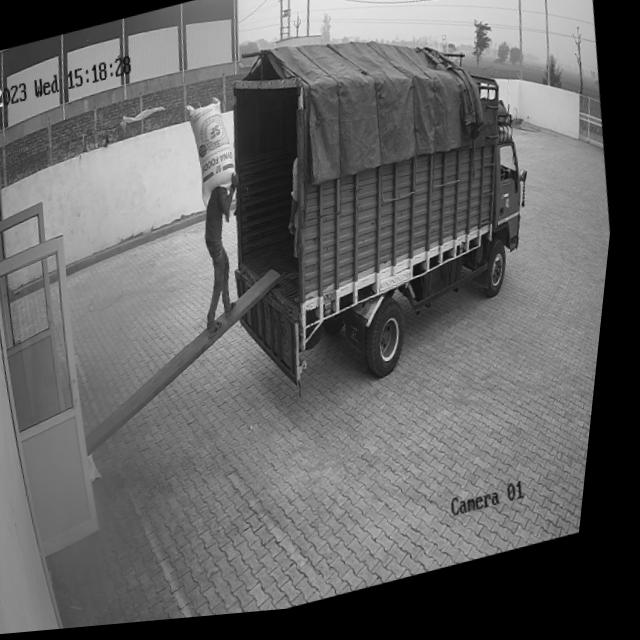sack: (180, 96, 251, 214)
